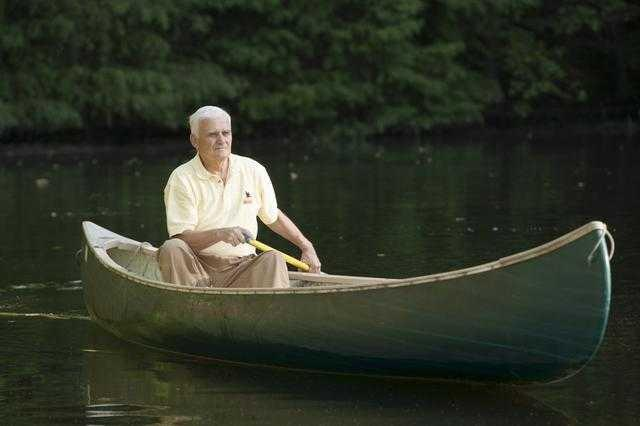kayak: (75, 217, 619, 382)
